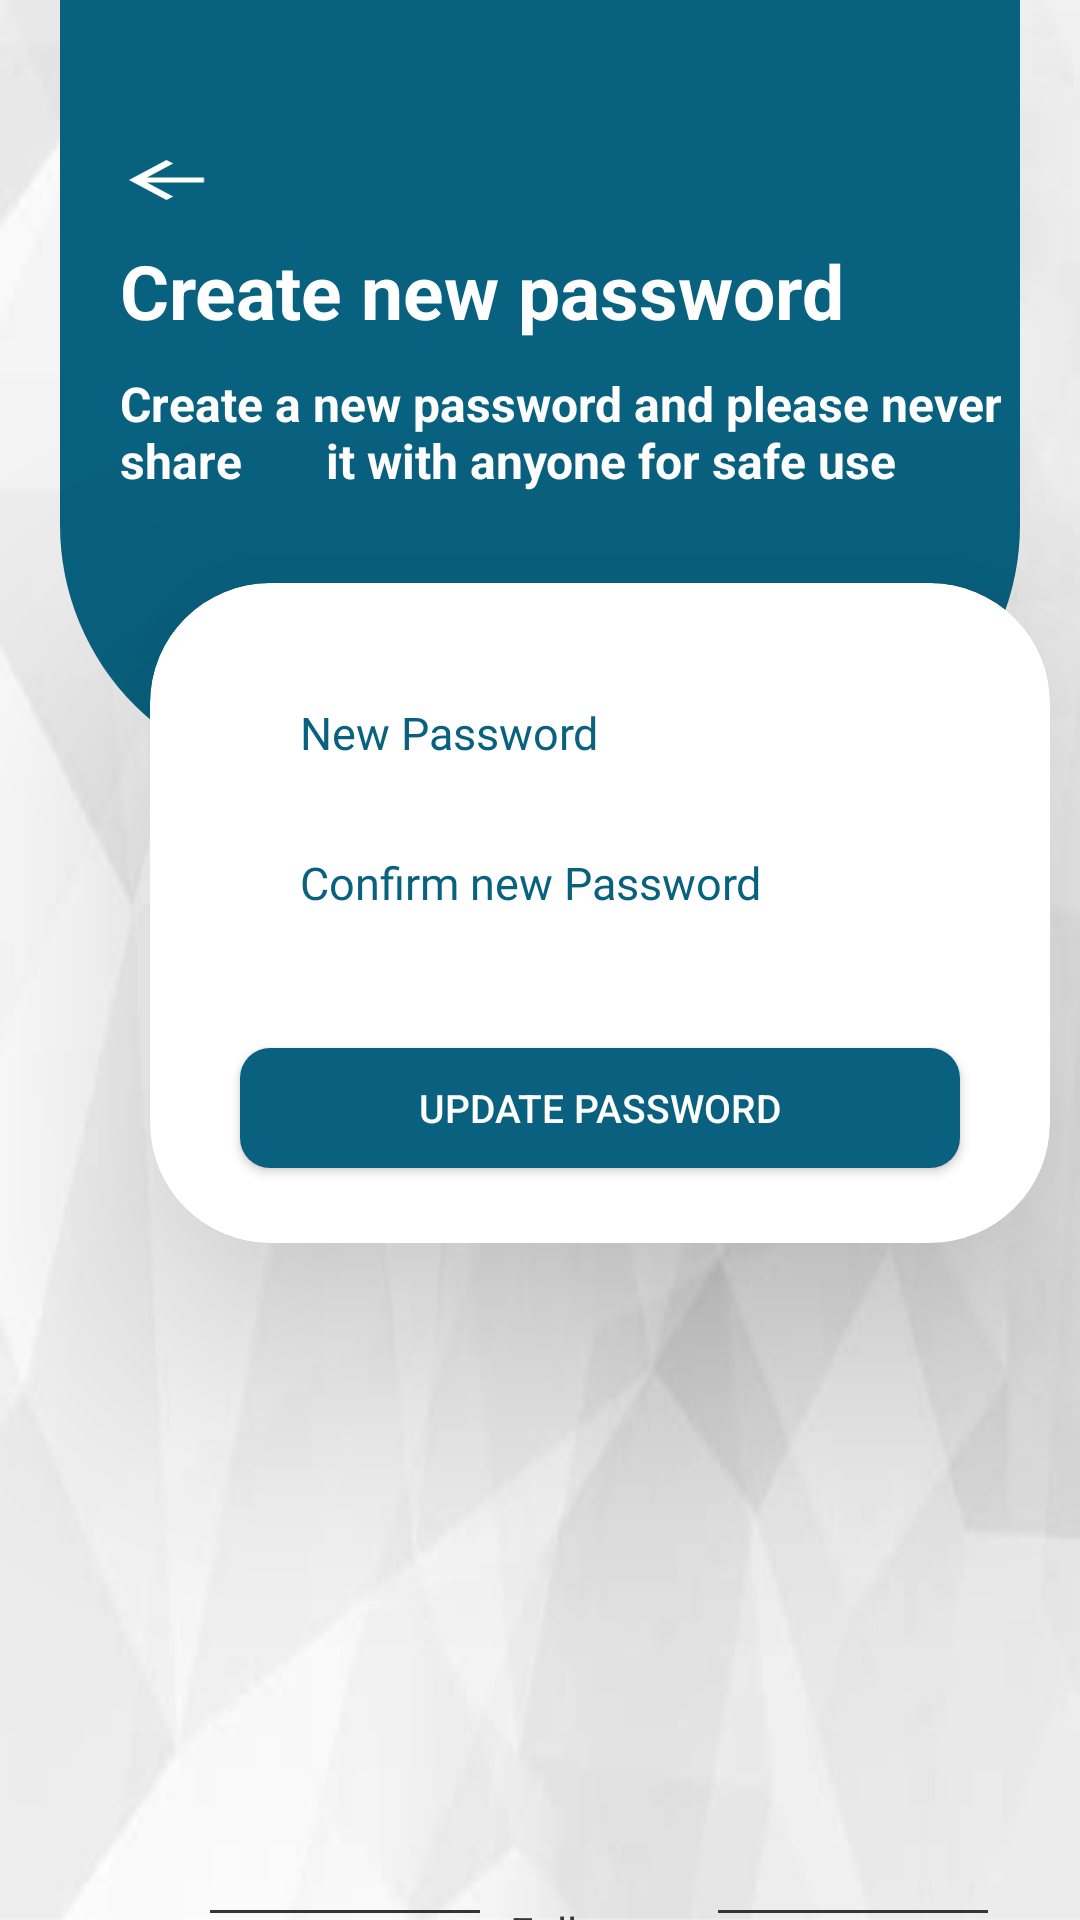

Icon click points for this 1080*1920 phone screenshot, format (x,y):
arrow back: (167,180)
